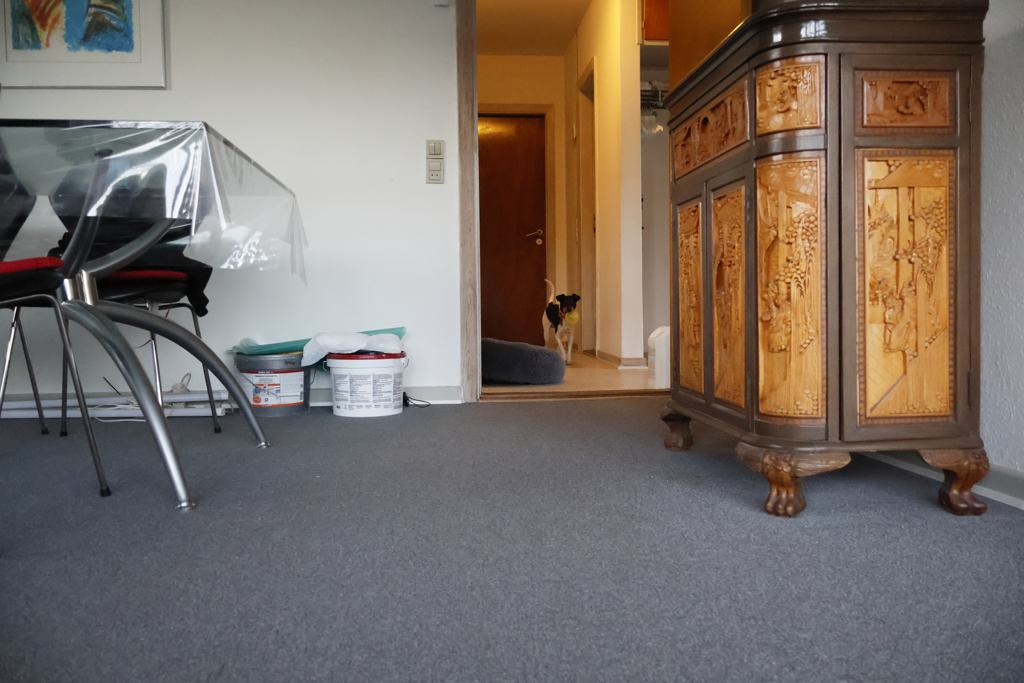Dog: (538, 275, 586, 370)
